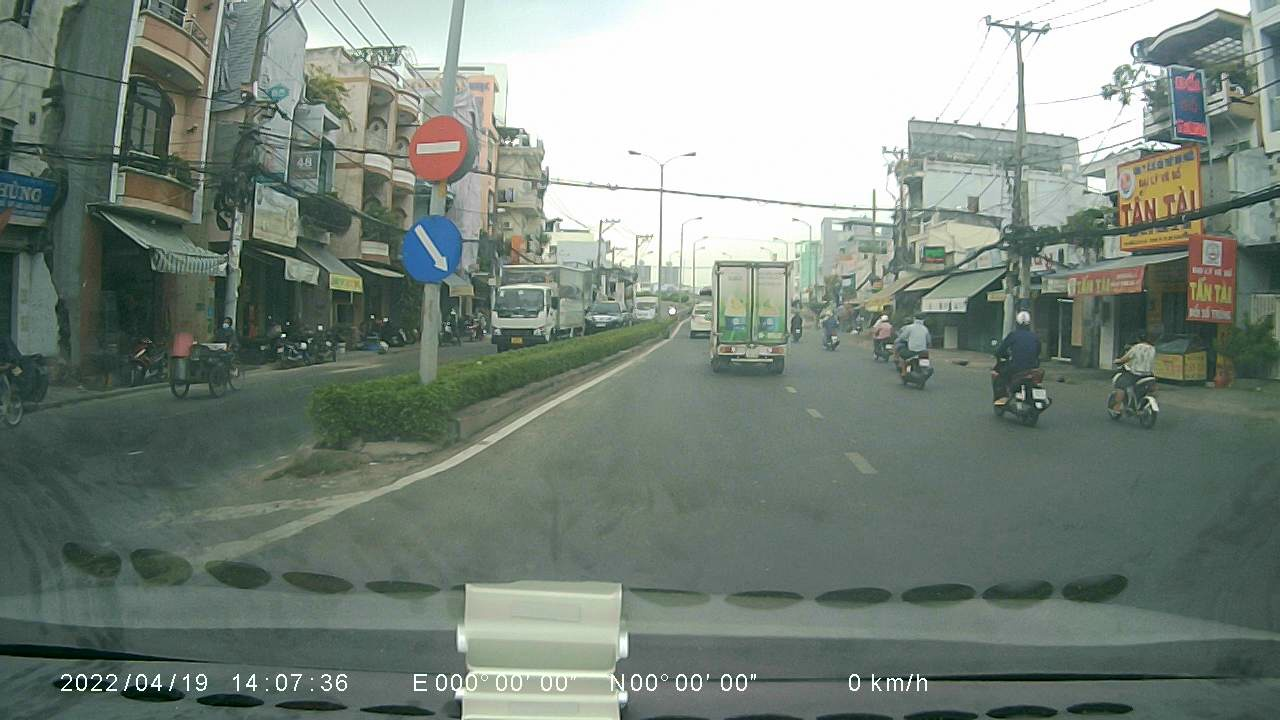Cam di nguoc chieu: (406, 114, 471, 184)
Huong di phai re phai: (398, 214, 466, 285)
